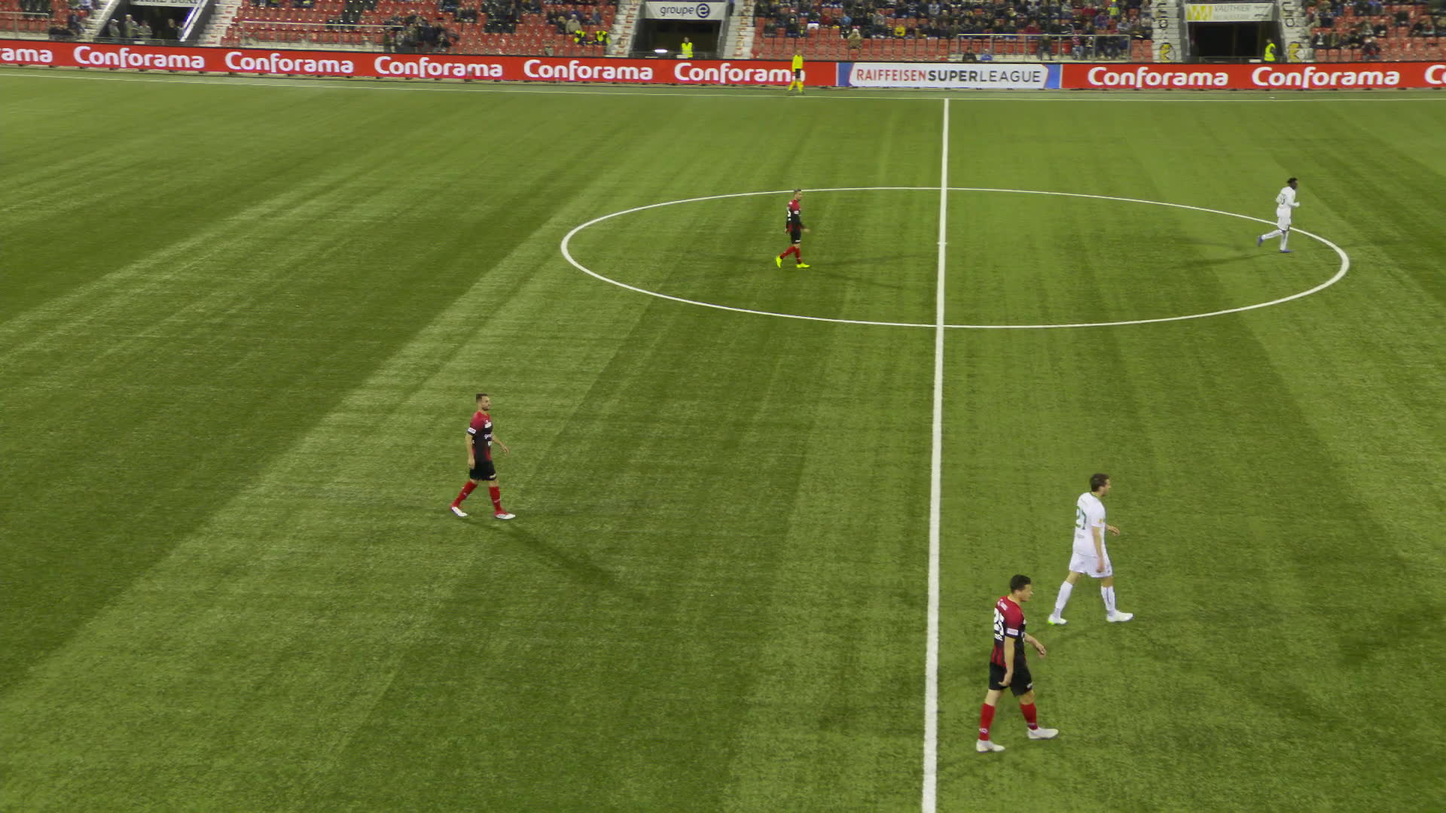player: (975, 574, 1057, 754), (1051, 473, 1138, 626), (453, 393, 511, 517), (1255, 177, 1298, 254), (775, 187, 811, 268)
referee: (787, 48, 805, 95)
